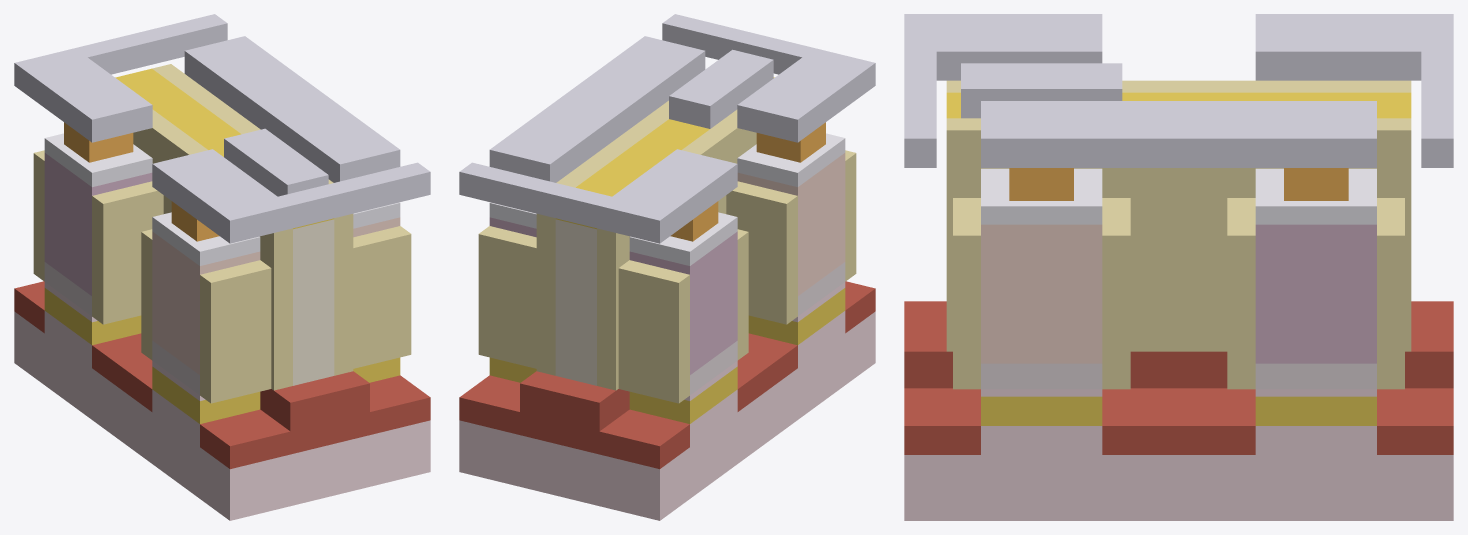
The model's file is inv_ns-si.glb.
The picture shows the model from 3 angles, left to right: view 1: azimuth 30°, elevation 25°; view 2: azimuth 150°, elevation 25°; view 3: azimuth 270°, elevation 25°; orthographic projection. The views are drawn at different scales.
Parts seen in each view (by area): view 1: substrate, n_finsp, sti, m1_out, m1_vss, m1_vdd, p_finsp, gate_mo, spacer_source, n_epi_source, p_epi_source, spacer_drain (+13 smaller); view 2: substrate, p_finsp, sti, m1_out, m1_vdd, m1_vss, n_finsp, gate_mo, spacer_source, n_epi_source, p_epi_source, spacer_drain (+13 smaller); view 3: substrate, sti, spacer_drain, m1_out, n_epi_drain, p_epi_drain, m1_vdd, m1_vss, n_finsp, p_finsp, m1_in, n_nisi_drain (+13 smaller).
Part boxes in pixels (left/top/right/bottom): substrate: left=14, top=311, right=430, bottom=520; n_finsp: left=141, top=226, right=411, bottom=403; sti: left=14, top=281, right=430, bottom=469; m1_out: left=184, top=36, right=400, bottom=182; m1_vss: left=152, top=149, right=430, bottom=243; m1_vdd: left=14, top=14, right=227, bottom=142; p_finsp: left=33, top=150, right=163, bottom=324; gate_mo: left=293, top=219, right=334, bottom=385; spacer_source: left=133, top=109, right=292, bottom=390; n_epi_source: left=152, top=231, right=260, bottom=374; p_epi_source: left=44, top=153, right=152, bottom=295; spacer_drain: left=152, top=64, right=353, bottom=375; substrate: left=459, top=311, right=875, bottom=520; p_finsp: left=478, top=226, right=748, bottom=403; sti: left=459, top=281, right=875, bottom=469; m1_out: left=489, top=36, right=705, bottom=182; m1_vdd: left=459, top=149, right=737, bottom=243; m1_vss: left=662, top=14, right=875, bottom=142; n_finsp: left=726, top=150, right=856, bottom=324; gate_mo: left=555, top=219, right=596, bottom=385; spacer_source: left=597, top=109, right=756, bottom=390; n_epi_source: left=737, top=153, right=845, bottom=295; p_epi_source: left=629, top=231, right=737, bottom=374; spacer_drain: left=536, top=100, right=668, bottom=375; substrate: left=904, top=455, right=1453, bottom=520; sti: left=904, top=301, right=1453, bottom=454; spacer_drain: left=946, top=118, right=1411, bottom=351; m1_out: left=981, top=101, right=1376, bottom=167; n_epi_drain: left=981, top=224, right=1102, bottom=363; p_epi_drain: left=1255, top=224, right=1376, bottom=363; m1_vdd: left=1255, top=14, right=1453, bottom=167; m1_vss: left=904, top=14, right=1102, bottom=167; n_finsp: left=953, top=198, right=1130, bottom=389; p_finsp: left=1227, top=198, right=1404, bottom=389; m1_in: left=961, top=63, right=1122, bottom=118; n_nisi_drain: left=981, top=168, right=1102, bottom=224.
Bounding box in the file's own units: 73 × 104 × 136.
